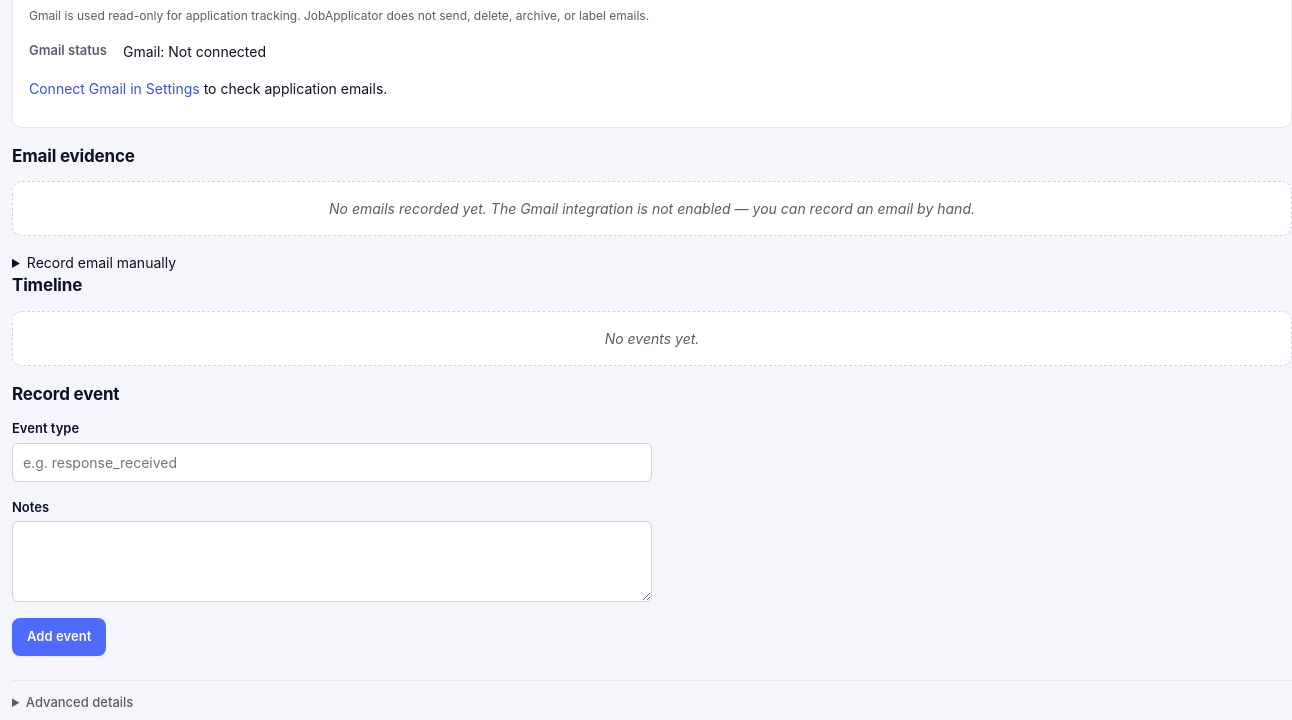
it: ApplicationDetailPage › records a manual event and refreshes the timeline
(page scrolled)
Check: the heading "Record event" is shown, box [12,384,119,404]
Type "response_received" into the field labelled "Event type" at (332, 462), box [12,442,652,482]
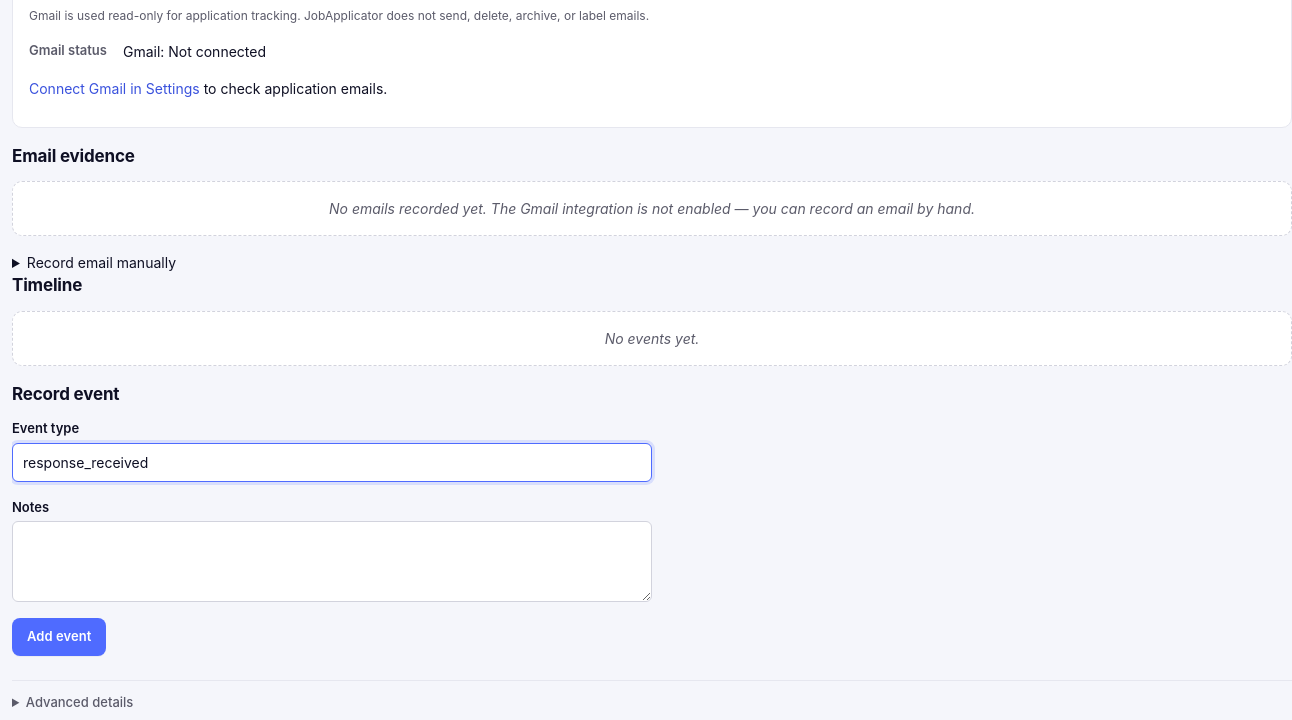
Type "Recruiter replied" into the text box labelled "Notes" at (332, 562), box [12,521,652,602]
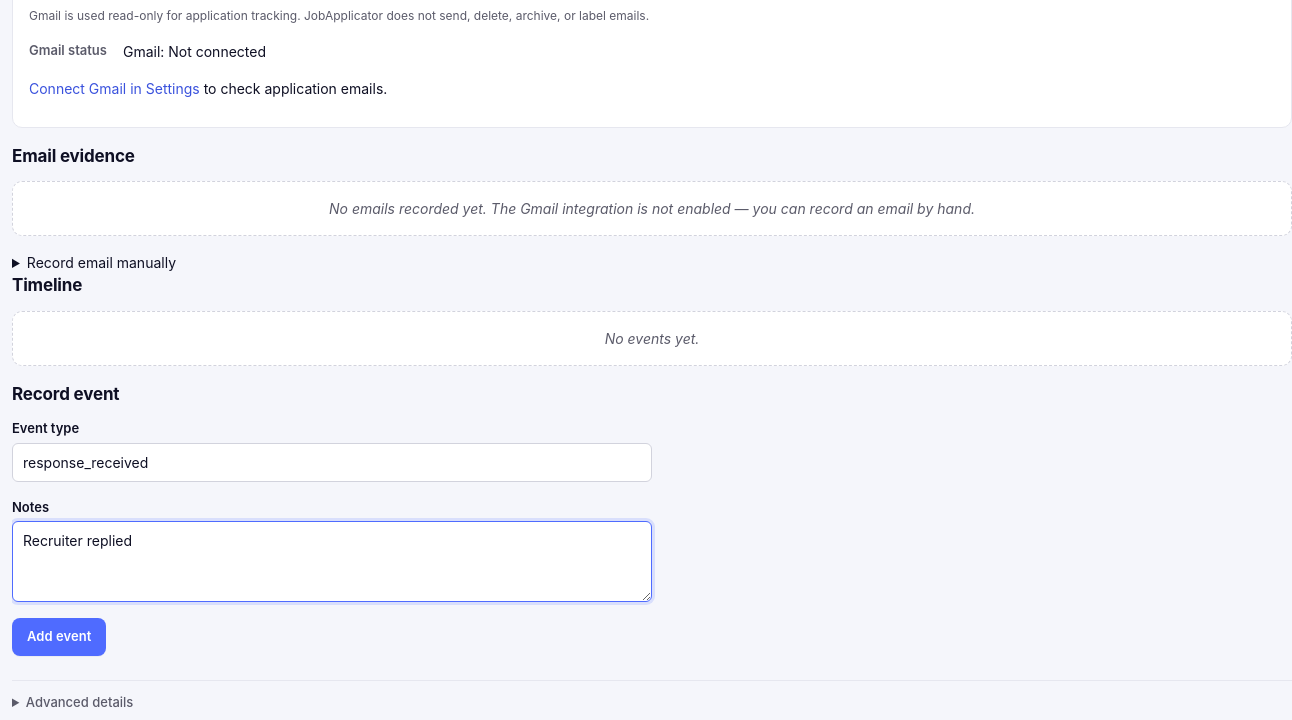
Click the button "Add event" at (59, 637), box [12,618,106,656]
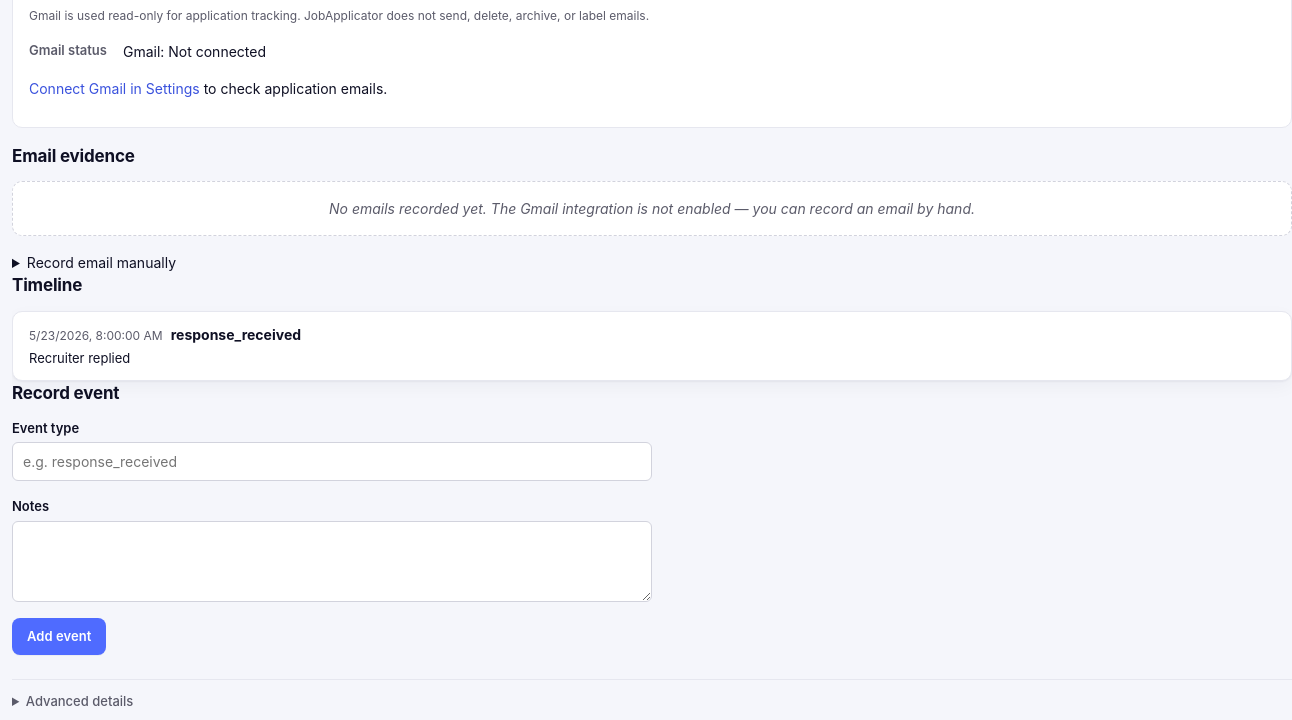
Check: the text "response_received" is shown, box [171,326,301,342]
Check: the text "Recruiter replied" is shown, box [29,350,130,366]
